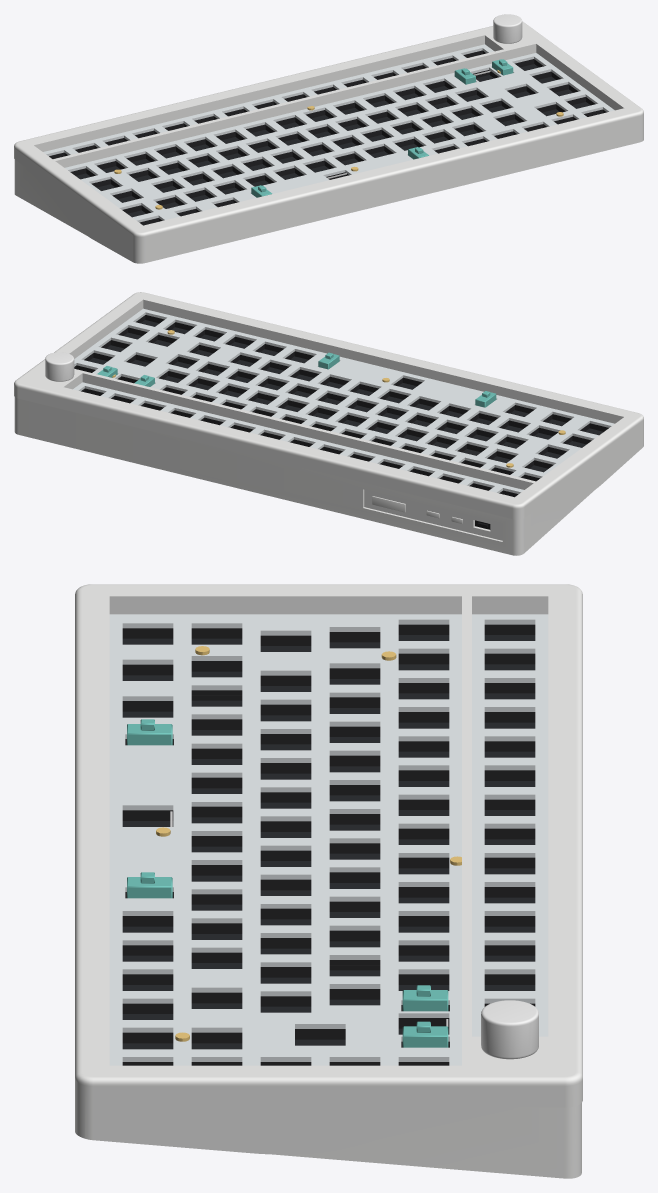
Rendered from 75-iso.glb.
3 views of the same model, one above another, from view 1: azimuth 30°, elevation 25°; view 2: azimuth 150°, elevation 25°; view 3: azimuth 270°, elevation 25° (orthographic). The views are drawn at different scales.
Parts seen in each view (by area): view 1: upperLid, plate, plateFoam, pcbFoam, pcb, lowerLid, stabilizers, knob; view 2: upperLid, plate, lowerLid, plateFoam, pcbFoam, pcb, stabilizers, knob, rearLight; view 3: plate, upperLid, plateFoam, pcb, pcbFoam, lowerLid, stabilizers, knob.
Part boxes in pixels (box(x1,y1,x2,y2)): upperLid: box(14, 21, 643, 263); plate: box(43, 44, 614, 222); plateFoam: box(49, 50, 606, 224); pcbFoam: box(52, 53, 603, 225); pcb: box(76, 64, 590, 217); lowerLid: box(14, 159, 85, 234); stabilizers: box(251, 59, 513, 197); knob: box(493, 14, 522, 43); upperLid: box(14, 292, 643, 519); plate: box(73, 308, 614, 494); lowerLid: box(14, 397, 593, 555); plateFoam: box(74, 315, 608, 496); pcbFoam: box(75, 317, 605, 497); pcb: box(89, 320, 603, 472); stabilizers: box(97, 352, 496, 407); knob: box(45, 352, 74, 381); rearLight: box(372, 496, 462, 523); plate: box(109, 614, 548, 1065); upperLid: box(75, 584, 582, 1154); plateFoam: box(122, 624, 535, 1065); pcb: box(122, 635, 535, 1049); pcbFoam: box(122, 630, 535, 1043); lowerLid: box(272, 1103, 581, 1178); stabilizers: box(127, 719, 448, 1047); knob: box(481, 1000, 538, 1059).
Size of what is drawn, in the model's own units: 32.5 by 4.23 by 14.03.
